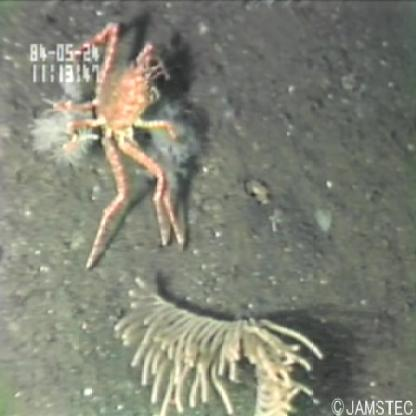Bio: (24, 15, 194, 272), (112, 264, 326, 416)
